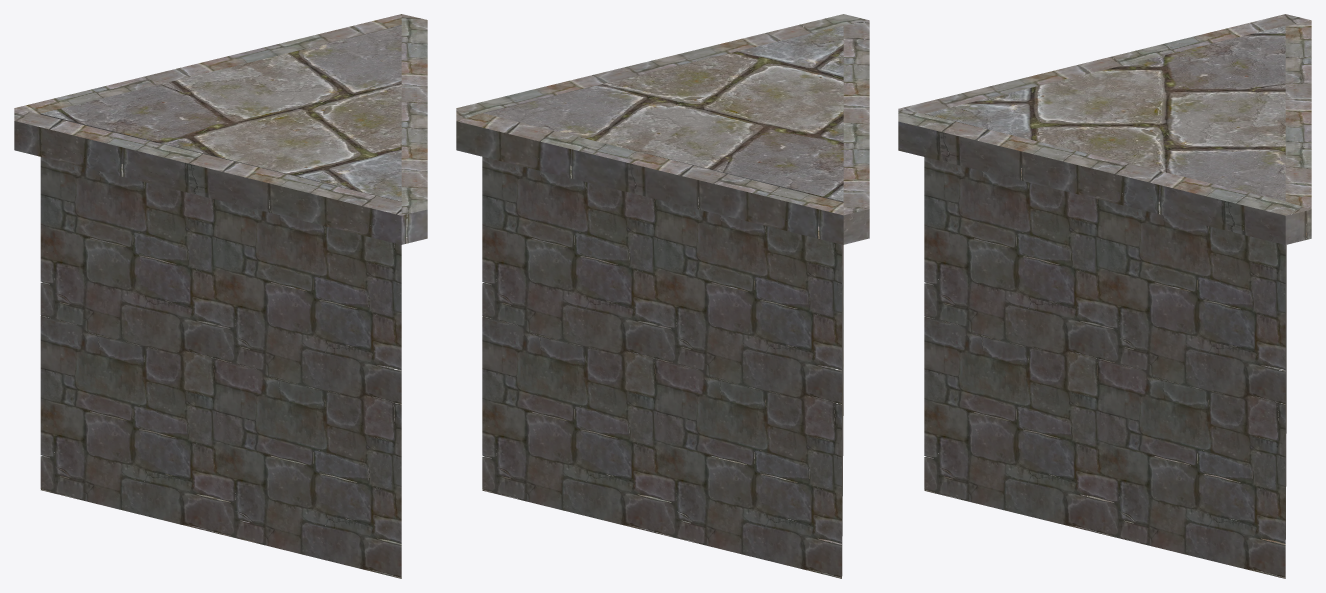
The picture shows the model from 3 angles, left to right: view 1: azimuth 30°, elevation 25°; view 2: azimuth 150°, elevation 25°; view 3: azimuth 270°, elevation 25°; orthographic projection.
Visible parts, largest first — view 1: SM_BB_T3_Foundation_Trangle_Large_LOD0; view 2: SM_BB_T3_Foundation_Trangle_Large_LOD0; view 3: SM_BB_T3_Foundation_Trangle_Large_LOD0.
Boxes of the visible parts, box(x1,y1,x2,y2) form: SM_BB_T3_Foundation_Trangle_Large_LOD0: box(14, 14, 427, 578); SM_BB_T3_Foundation_Trangle_Large_LOD0: box(456, 14, 869, 578); SM_BB_T3_Foundation_Trangle_Large_LOD0: box(898, 14, 1311, 578).
Size of the model in its own units: 3.43 by 3 by 2.97.
2 materials, 2 textured.
